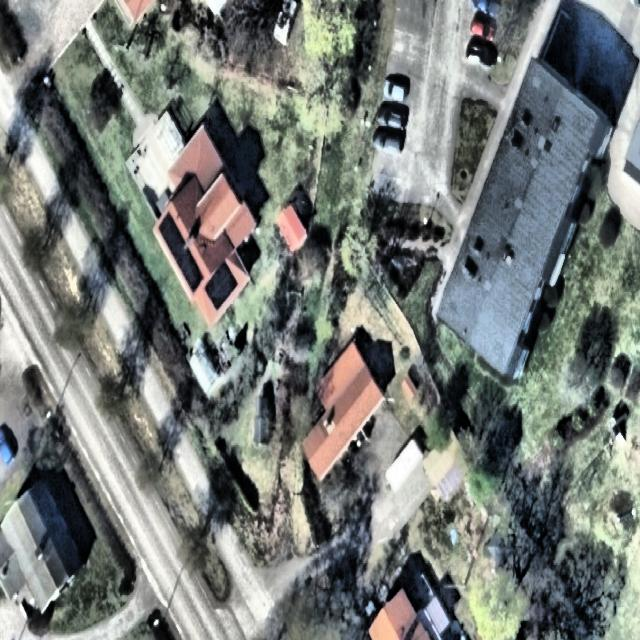roof_pv: (204, 261, 241, 310), (179, 261, 205, 299), (158, 213, 181, 252), (172, 238, 196, 272)
